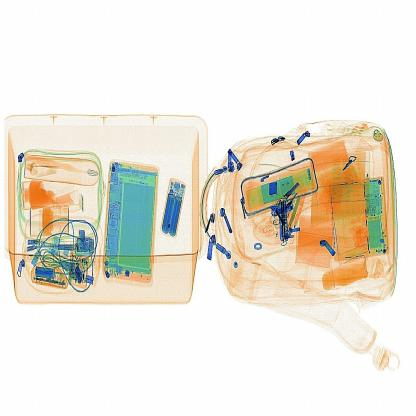scissors: (269, 195, 299, 250)
